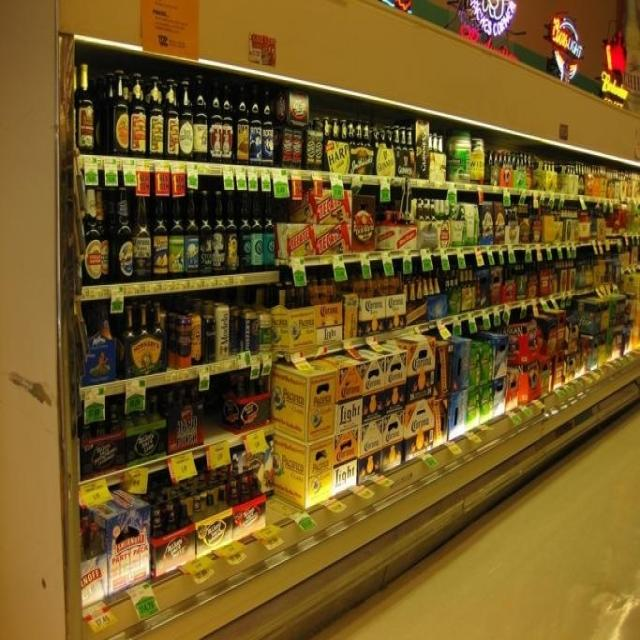Glass: (72, 64, 276, 168), (77, 199, 270, 275), (304, 104, 421, 171)
